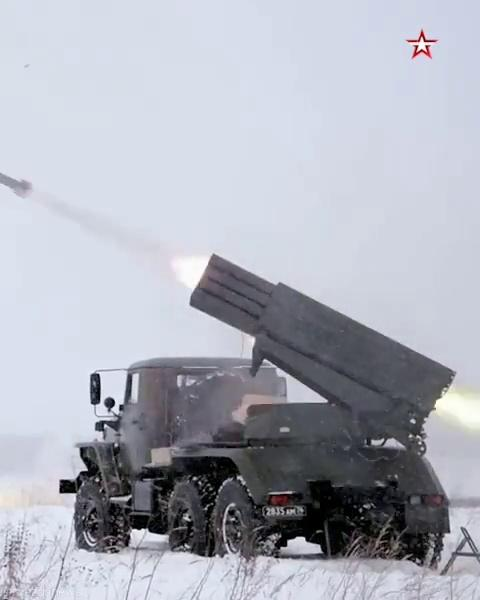MIL_SAM_TEL: (68, 252, 461, 566)
